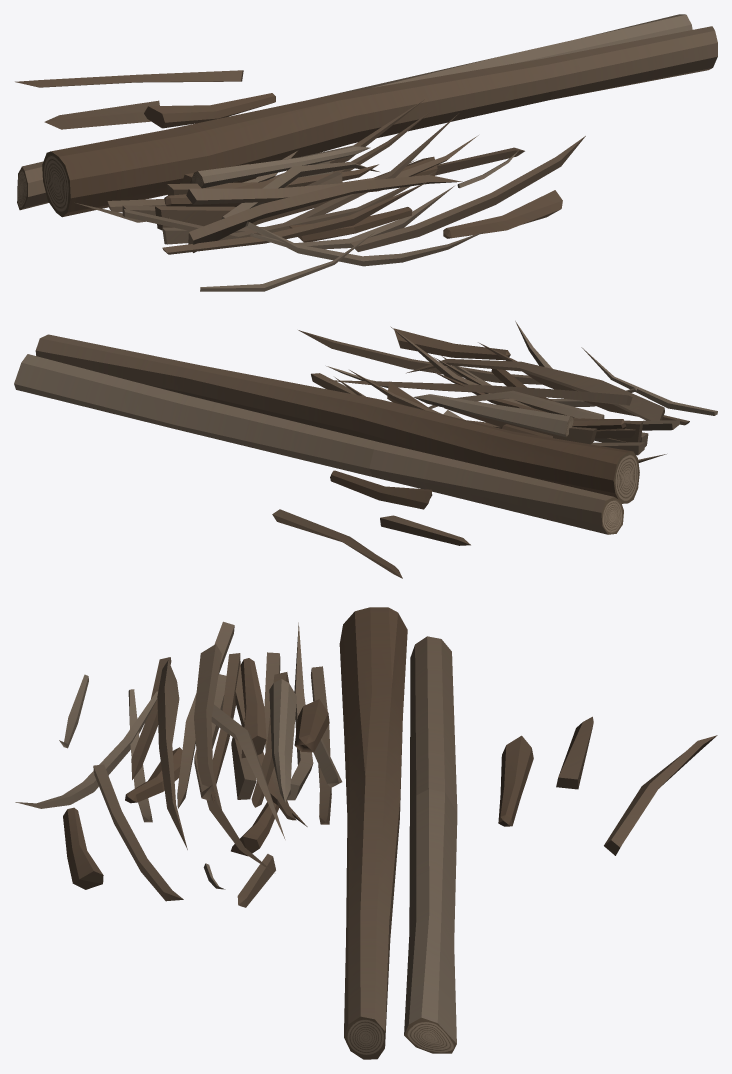
The model's file is PT_Pine_Tree_03_logs.glb.
3 renders of one model, top to bottom at view 1: azimuth 30°, elevation 25°; view 2: azimuth 150°, elevation 25°; view 3: azimuth 270°, elevation 25°, orthographic. The views are drawn at different scales.
Visible parts, largest first — view 1: PT_Pine_Tree_03_logs; view 2: PT_Pine_Tree_03_logs; view 3: PT_Pine_Tree_03_logs.
Boxes of the visible parts, <box> form: PT_Pine_Tree_03_logs: <box>15,14,717,291</box>; PT_Pine_Tree_03_logs: <box>14,321,717,578</box>; PT_Pine_Tree_03_logs: <box>15,607,717,1059</box>.
Size of the model in its own units: 3.68 by 0.4346 by 2.84.
Materials: 1 (1 with a texture image).
